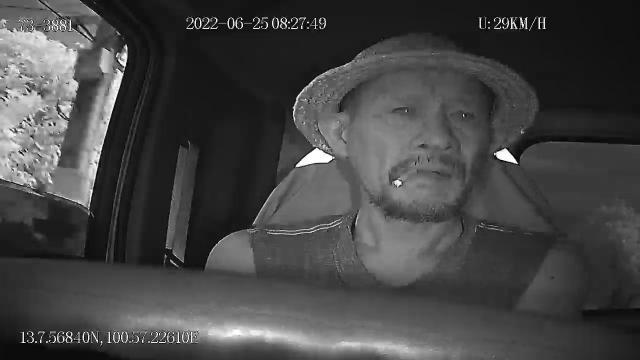SafeDriving: (384, 92, 422, 124), (444, 98, 480, 128)
Smoking: (394, 166, 421, 190)
